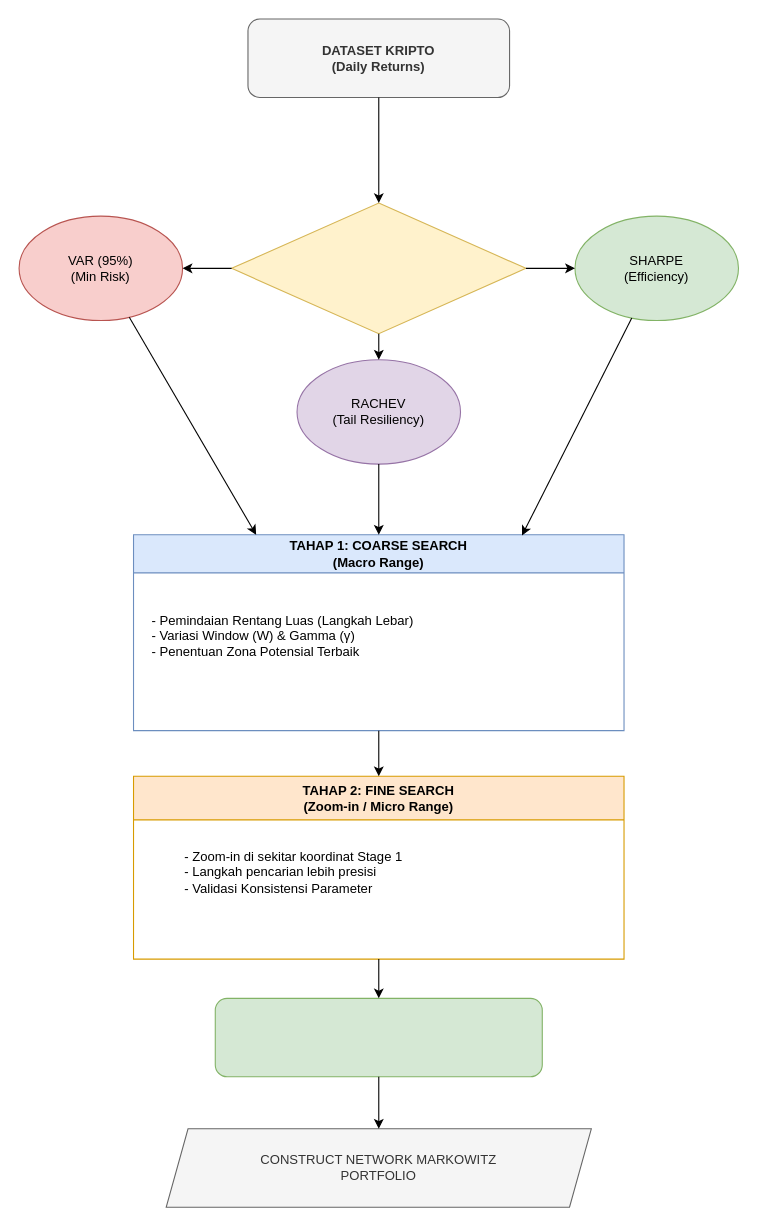
This 758x1226 diagram has some shape labels left out. The shapes that lost their labels are listed below. From the top down, each one's centre as x and y in pixels, then its label:
(x=378, y=268): OPTIMASI TARGET (Multi-Metric)
(x=378, y=1037): OPTIMAL PARAMETER SET (W*, γ*)
